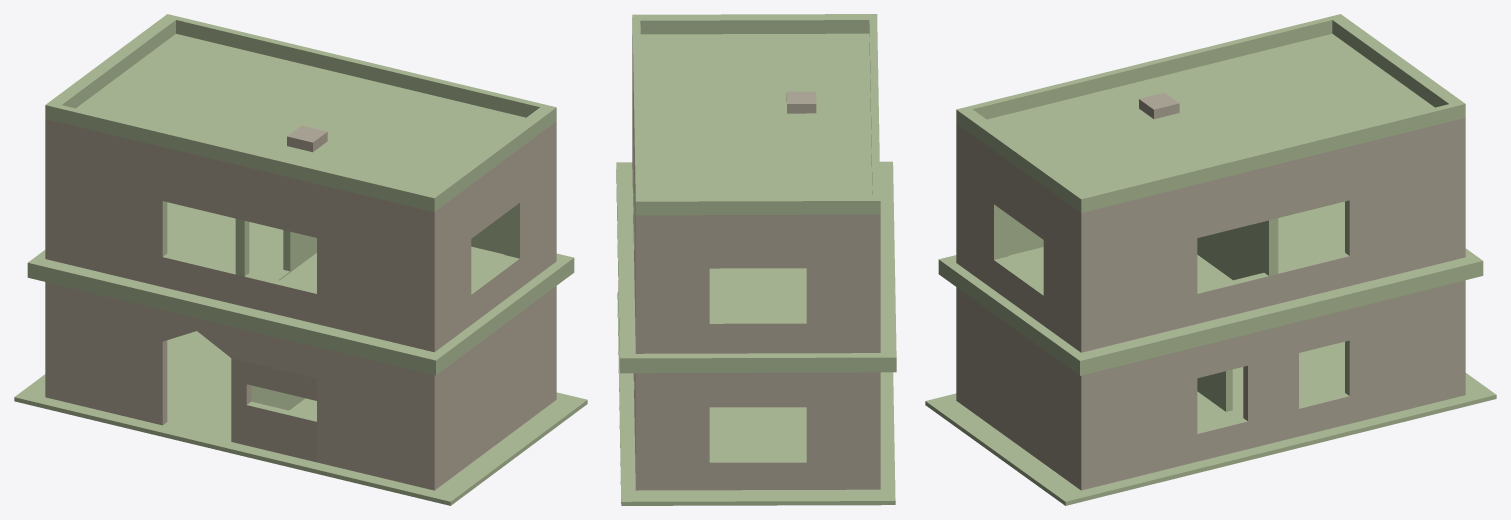
File: house1.glb
3 renders of one model, left to right at view 1: azimuth 30°, elevation 25°; view 2: azimuth 150°, elevation 25°; view 3: azimuth 270°, elevation 25°, orthographic.
Visible parts, largest first — view 1: Cube.003; view 2: Cube.003; view 3: Cube.003.
Boxes of the visible parts, x1=… form: Cube.003: x1=14, y1=14, x2=587, y2=505; Cube.003: x1=616, y1=14, x2=896, y2=505; Cube.003: x1=925, y1=14, x2=1496, y2=505.
Bounding box in the file's own units: 0.0614 × 0.0408 × 0.0713.
